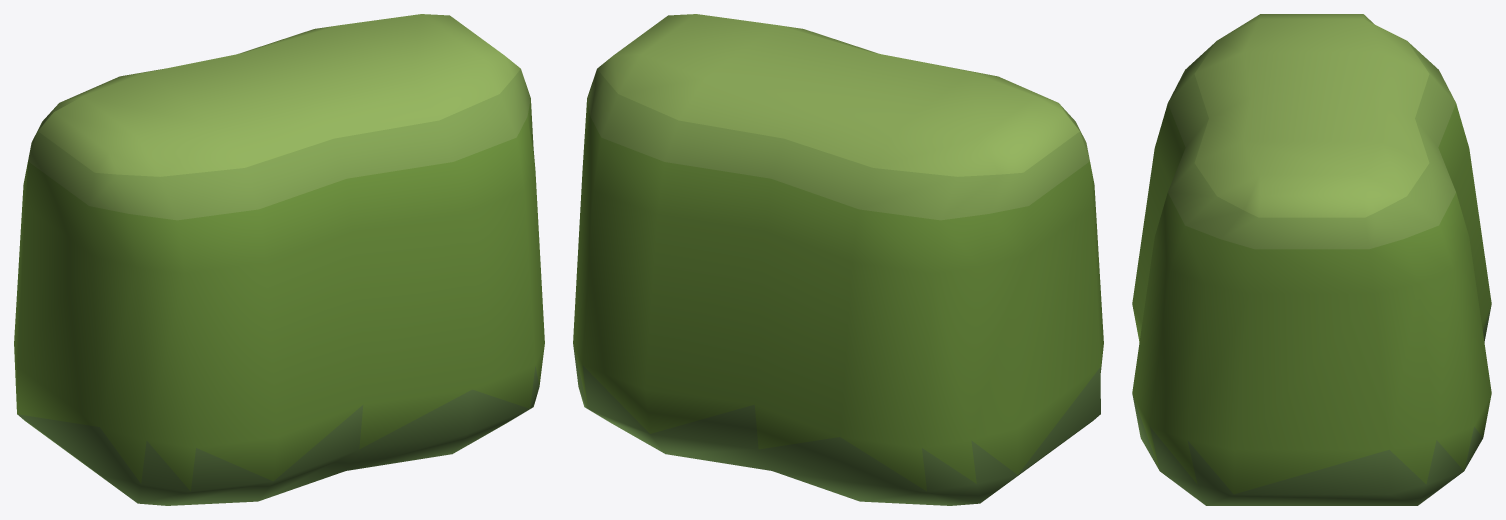
Rendered from itch_tiny_pretty_park_hedge_straight.glb.
3 views of the same model, side by side, from view 1: azimuth 30°, elevation 25°; view 2: azimuth 150°, elevation 25°; view 3: azimuth 270°, elevation 25° (orthographic). The views are drawn at different scales.
Parts seen in each view (by area): view 1: hedge_straight; view 2: hedge_straight; view 3: hedge_straight.
Part boxes in pixels (x1,y1,x2,y2): hedge_straight: [14, 14, 544, 505]; hedge_straight: [573, 14, 1103, 505]; hedge_straight: [1132, 14, 1491, 505].
Bounding box in the file's own units: 0.96 × 0.72 × 0.72.
